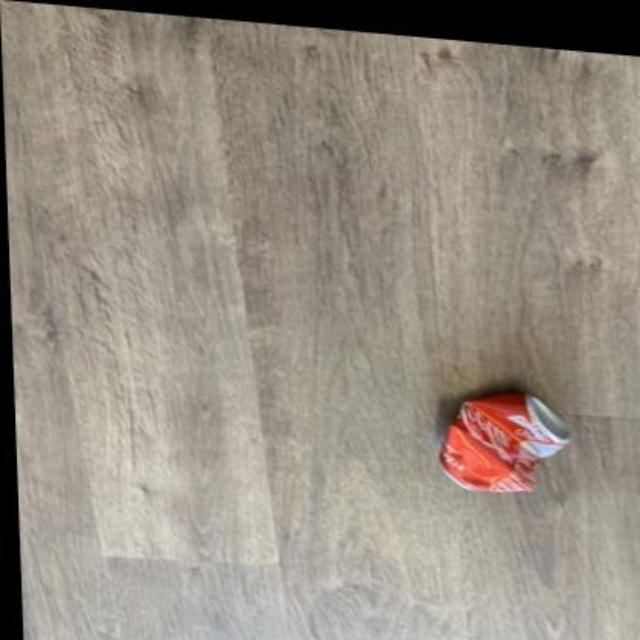trash: (440, 394, 568, 491)
